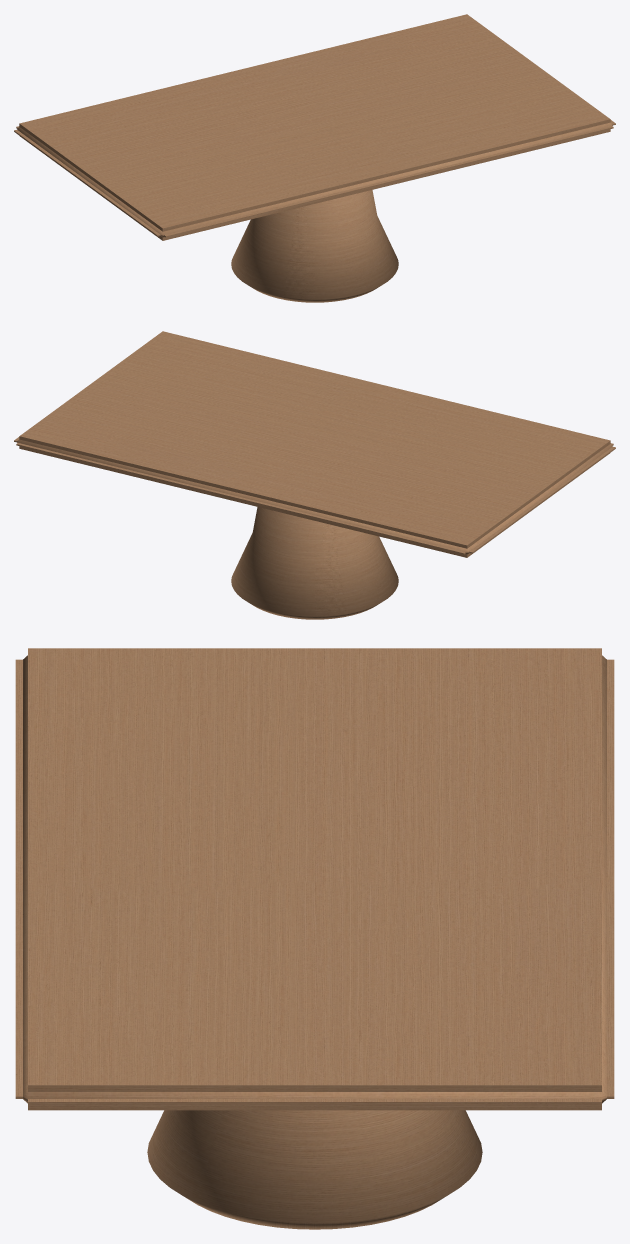
Rendered from contemporary.coffee_table.gltf.
3 renders of one model, top to bottom at view 1: azimuth 30°, elevation 25°; view 2: azimuth 150°, elevation 25°; view 3: azimuth 270°, elevation 25°, orthographic. The views are drawn at different scales.
Parts seen in each view (by area): view 1: contemporary.coffee_table.rounded-top; view 2: contemporary.coffee_table.rounded-top; view 3: contemporary.coffee_table.rounded-top.
Part boxes in pixels (x1=…): contemporary.coffee_table.rounded-top: x1=14, y1=14, x2=615, y2=302; contemporary.coffee_table.rounded-top: x1=14, y1=331, x2=615, y2=619; contemporary.coffee_table.rounded-top: x1=15, y1=648, x2=614, y2=1229.
Bounding box in the file's own units: 1.15 × 0.36 × 0.65.
Materials: 1 (1 with a texture image).
